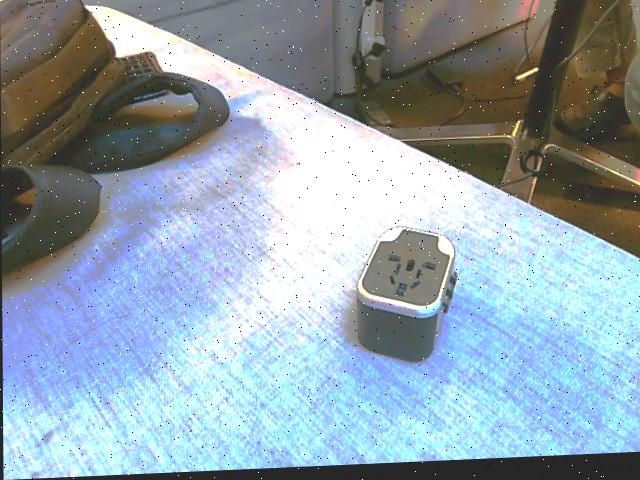adapter: (354, 228, 457, 368)
